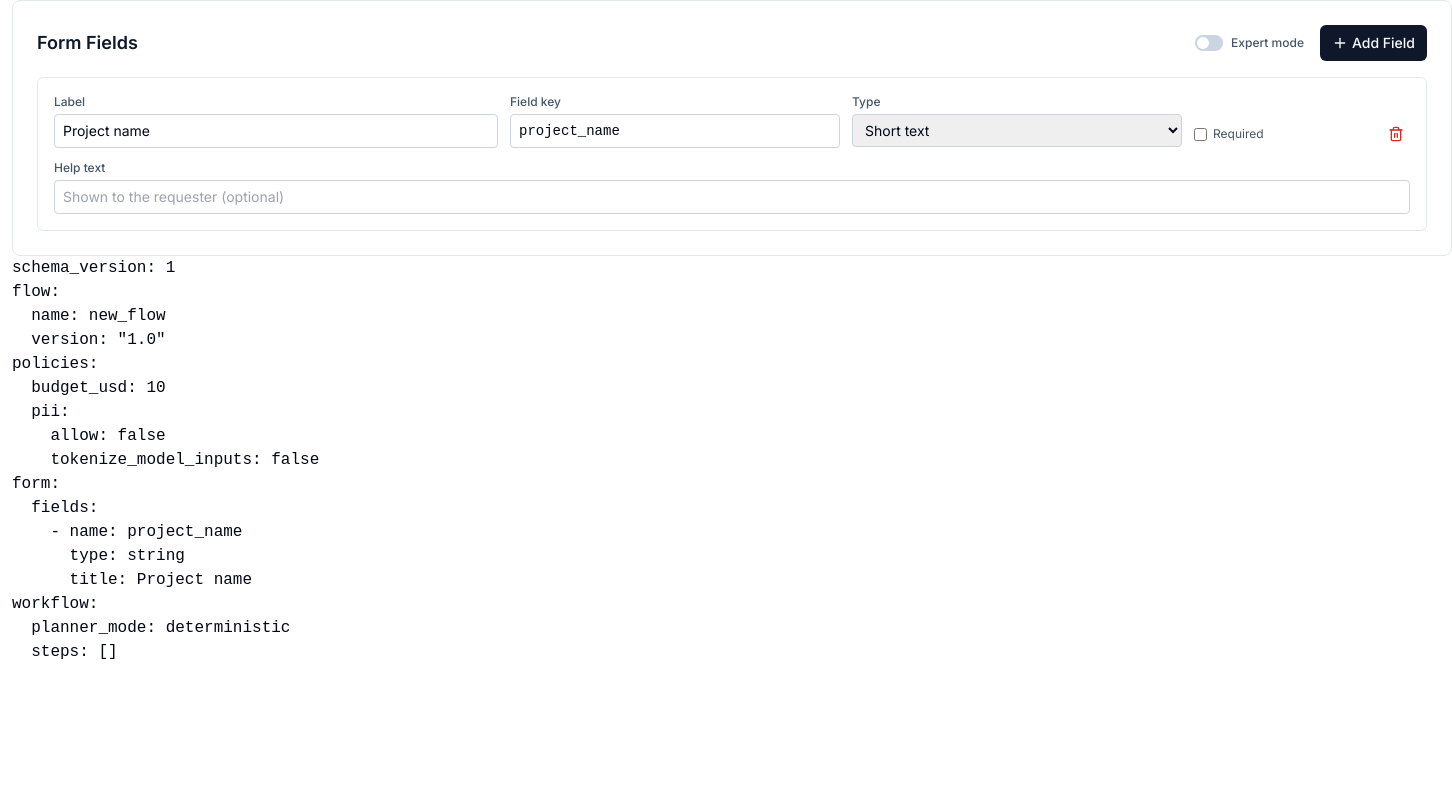
it: Intake form editor — business mode › auto-derives the field key from the label until the key is customised
The image size is (1452, 810).
Replace the text in the field named "Field label" with "Estimated value (EUR)" at (276, 131), box [54,114,498,148]
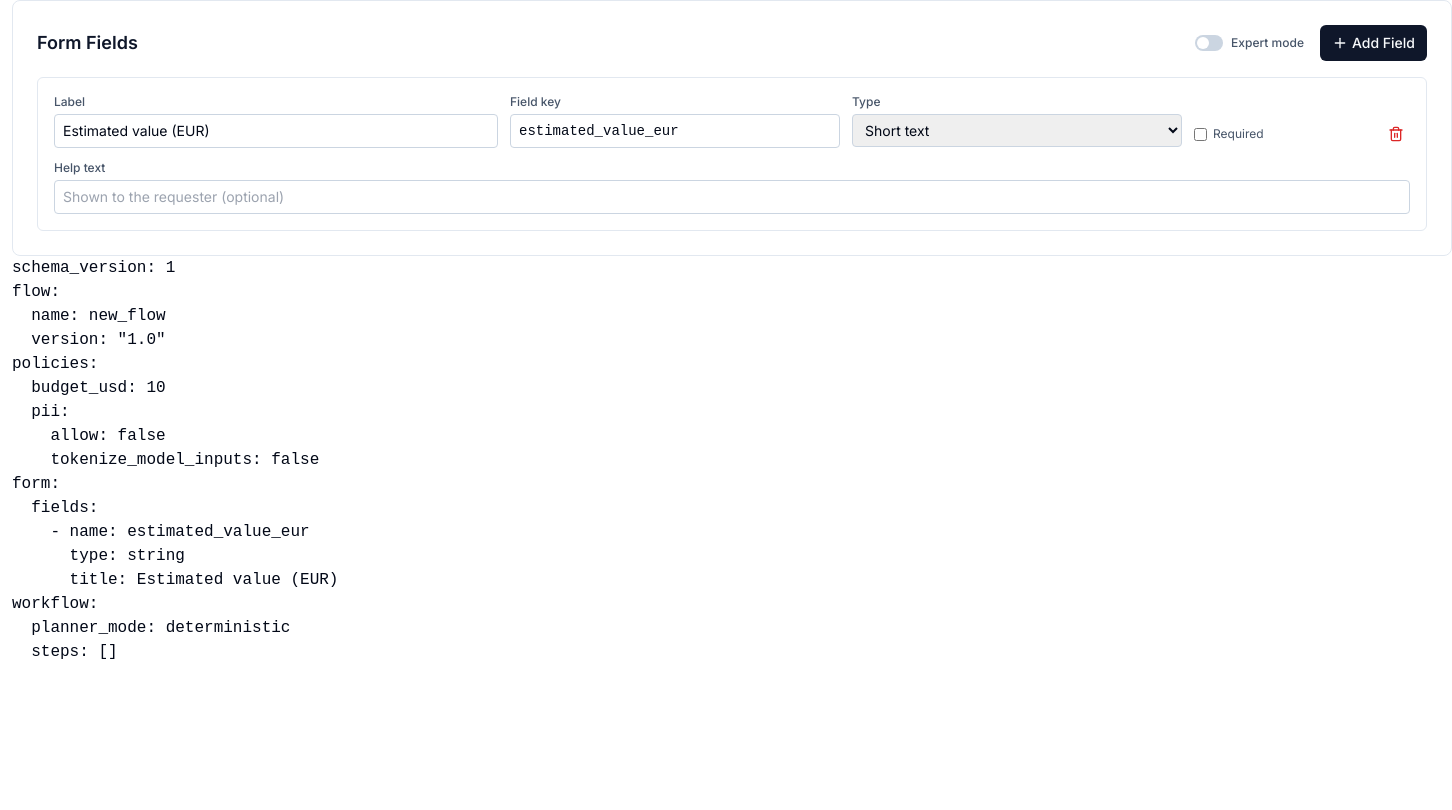
Expected: the field named "Field key" holds "estimated_value_eur", [510,114,840,148]
